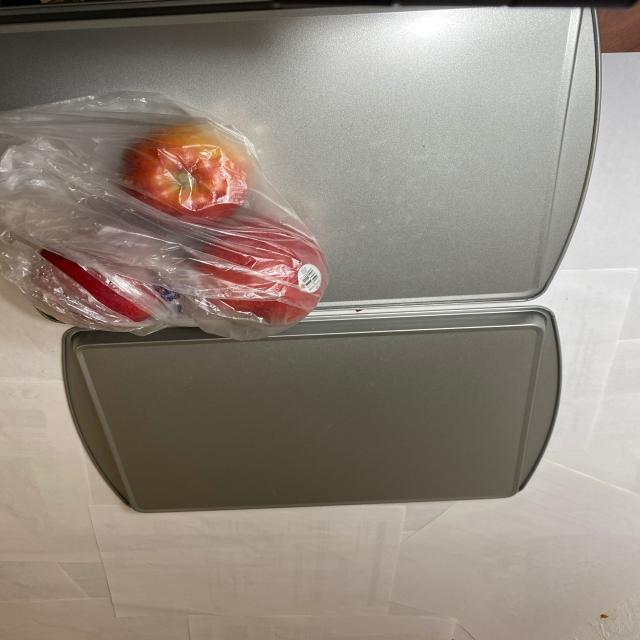apple: (37, 112, 337, 332)
